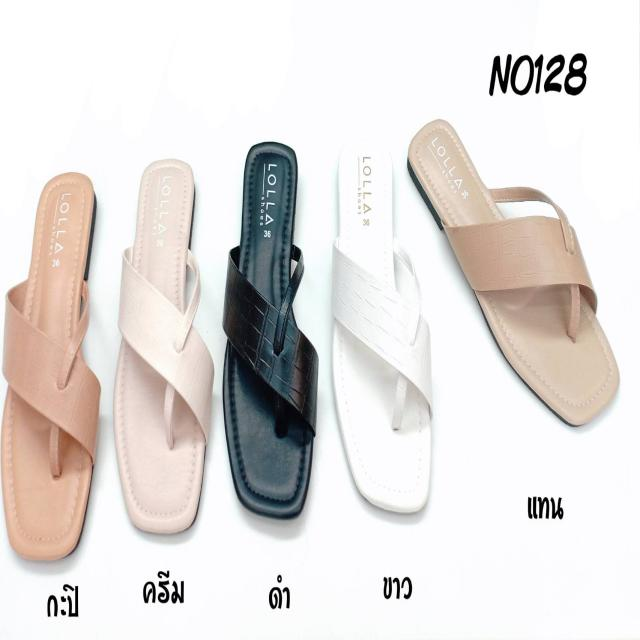black: (230, 145, 314, 522)
cream: (123, 156, 206, 542)
kapi: (8, 180, 96, 558)
tan: (409, 111, 623, 425)
white: (338, 139, 432, 516)
